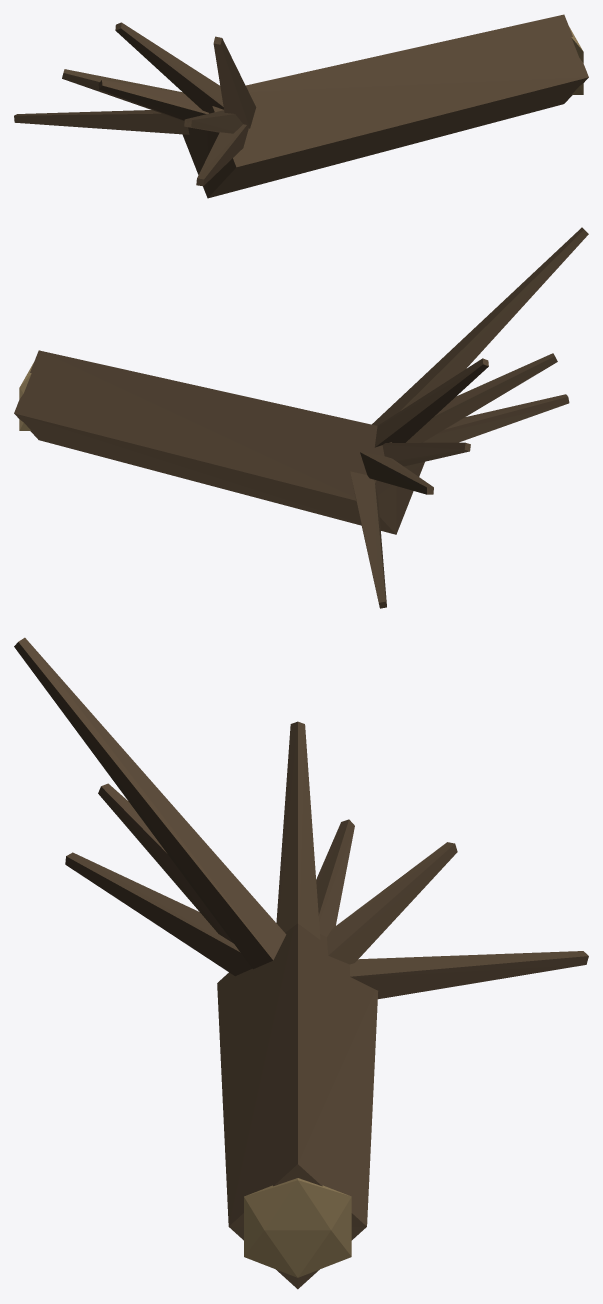
The model's file is exposed_roots-far.glb.
3 renders of one model, top to bottom at view 1: azimuth 30°, elevation 25°; view 2: azimuth 150°, elevation 25°; view 3: azimuth 270°, elevation 25°, orthographic. The views are drawn at different scales.
Visible parts, largest first — view 1: world-scenery/exposed_roots-far; view 2: world-scenery/exposed_roots-far; view 3: world-scenery/exposed_roots-far.
Boxes of the visible parts, x1,y1,x2,y2 form: world-scenery/exposed_roots-far: [14, 14, 588, 198]; world-scenery/exposed_roots-far: [14, 227, 588, 608]; world-scenery/exposed_roots-far: [14, 637, 588, 1289].
Bounding box in the file's own units: 2.55 × 1.37 × 1.99.
